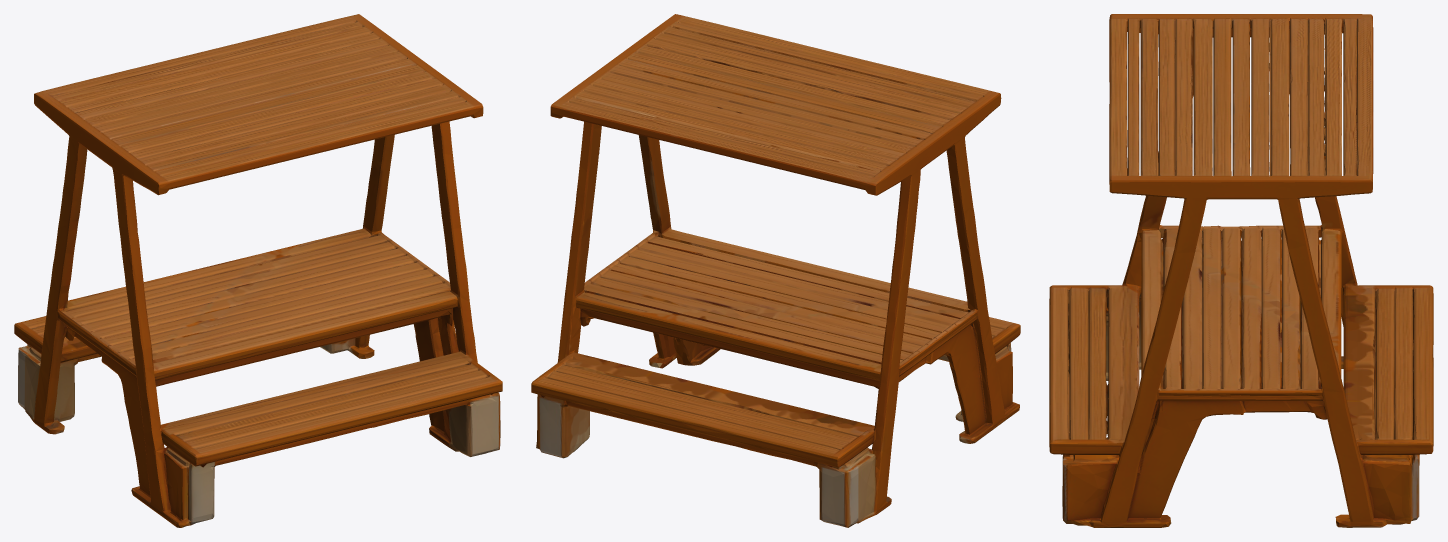
File: room-07-picnic-set.glb
3 renders of one model, left to right at view 1: azimuth 30°, elevation 25°; view 2: azimuth 150°, elevation 25°; view 3: azimuth 270°, elevation 25°, orthographic. The views are drawn at different scales.
Visible parts, largest first — view 1: textured_mesh.obj; view 2: textured_mesh.obj; view 3: textured_mesh.obj.
Part boxes in pixels (x1,y1,x2,y2): textured_mesh.obj: (14,14,502,527); textured_mesh.obj: (531,14,1020,527); textured_mesh.obj: (1049,14,1433,527).
Bounding box in the file's own units: 2.46 × 2.4 × 2.39.
Materials: 1 (1 with a texture image).
